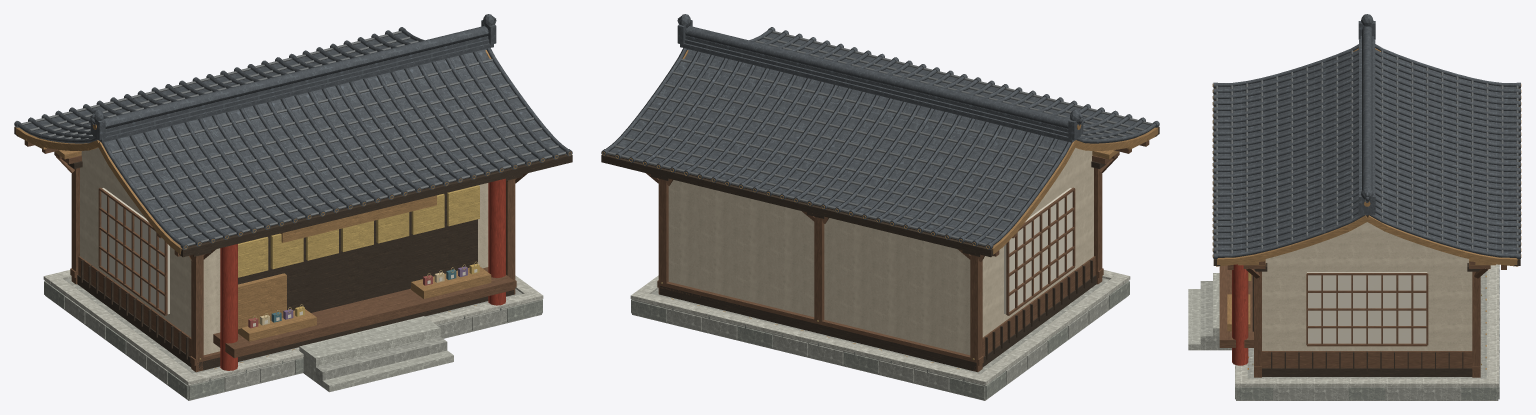
The model's file is shrine_office-exterior-refined-v1.glb.
The picture shows the model from 3 angles, left to right: view 1: azimuth 30°, elevation 25°; view 2: azimuth 150°, elevation 25°; view 3: azimuth 270°, elevation 25°; orthographic projection. The views are drawn at different scales.
Visible parts, largest first — view 1: shrine_office_01_原有建筑轮廓与构件_EX_50565a_dark_rock_surface, shrine_office_02_屋顶瓦作_EX_50565a_dark_rock_surface, shrine_office_01_原有建筑轮廓与构件_EX_41362b_fine_grained_wood_surfa, shrine_office_01_原有建筑轮廓与构件_EX_71533d_fine_grained_wood_surfa, shrine_office_01_原有建筑轮廓与构件_EX_6d7070_plain_surface, shrine_office_01_原有建筑轮廓与构件_EX_a17c51_fine_grained_wood_surfa, shrine_office_01_原有建筑轮廓与构件_EX_d5c8ae_grey_plaster_surface, shrine_office_01_原有建筑轮廓与构件_EX_a4a49a_dark_rock_surface, shrine_office_01_原有建筑轮廓与构件_EX_c5a865_fine_grained_wood_surfa, shrine_office_01_原有建筑轮廓与构件_EX_b5b5a9_dark_rock_surface, shrine_office_01_原有建筑轮廓与构件_EX_bebdaf_dark_rock_surface, shrine_office_01_原有建筑轮廓与构件_EX_a84835_fine_grained_wood_surfa (+2 smaller); view 2: shrine_office_01_原有建筑轮廓与构件_EX_d5c8ae_grey_plaster_surface, shrine_office_01_原有建筑轮廓与构件_EX_50565a_dark_rock_surface, shrine_office_02_屋顶瓦作_EX_50565a_dark_rock_surface, shrine_office_01_原有建筑轮廓与构件_EX_71533d_fine_grained_wood_surfa, shrine_office_01_原有建筑轮廓与构件_EX_6d7070_plain_surface, shrine_office_01_原有建筑轮廓与构件_EX_41362b_fine_grained_wood_surfa, shrine_office_01_原有建筑轮廓与构件_EX_a4a49a_dark_rock_surface, shrine_office_01_原有建筑轮廓与构件_EX_bebdaf_dark_rock_surface, shrine_office_03_窗面与灯具_EX_e6deca_Paper001_window, shrine_office_01_原有建筑轮廓与构件_EX_92968b_dark_rock_surface, shrine_office_01_原有建筑轮廓与构件_EX_a17c51_fine_grained_wood_surfa; view 3: shrine_office_01_原有建筑轮廓与构件_EX_50565a_dark_rock_surface, shrine_office_02_屋顶瓦作_EX_50565a_dark_rock_surface, shrine_office_01_原有建筑轮廓与构件_EX_d5c8ae_grey_plaster_surface, shrine_office_01_原有建筑轮廓与构件_EX_71533d_fine_grained_wood_surfa, shrine_office_03_窗面与灯具_EX_e6deca_Paper001_window, shrine_office_01_原有建筑轮廓与构件_EX_6d7070_plain_surface, shrine_office_01_原有建筑轮廓与构件_EX_a4a49a_dark_rock_surface, shrine_office_01_原有建筑轮廓与构件_EX_bebdaf_dark_rock_surface, shrine_office_01_原有建筑轮廓与构件_EX_a17c51_fine_grained_wood_surfa, shrine_office_01_原有建筑轮廓与构件_EX_41362b_fine_grained_wood_surfa, shrine_office_01_原有建筑轮廓与构件_EX_a84835_fine_grained_wood_surfa, shrine_office_01_原有建筑轮廓与构件_EX_92968b_dark_rock_surface (+2 smaller).
Boxes of the visible parts, box(x1,y1,x2,y2) form: shrine_office_01_原有建筑轮廓与构件_EX_50565a_dark_rock_surface: box(14, 20, 572, 249); shrine_office_02_屋顶瓦作_EX_50565a_dark_rock_surface: box(24, 33, 564, 243); shrine_office_01_原有建筑轮廓与构件_EX_41362b_fine_grained_wood_surfa: box(14, 126, 572, 370); shrine_office_01_原有建筑轮廓与构件_EX_71533d_fine_grained_wood_surfa: box(24, 140, 527, 372); shrine_office_01_原有建筑轮廓与构件_EX_6d7070_plain_surface: box(21, 31, 566, 246); shrine_office_01_原有建筑轮廓与构件_EX_a17c51_fine_grained_wood_surfa: box(15, 50, 566, 341); shrine_office_01_原有建筑轮廓与构件_EX_d5c8ae_grey_plaster_surface: box(80, 148, 488, 354); shrine_office_01_原有建筑轮廓与构件_EX_a4a49a_dark_rock_surface: box(45, 278, 541, 400); shrine_office_01_原有建筑轮廓与构件_EX_c5a865_fine_grained_wood_surfa: box(238, 185, 479, 277); shrine_office_01_原有建筑轮廓与构件_EX_b5b5a9_dark_rock_surface: box(299, 316, 453, 392); shrine_office_01_原有建筑轮廓与构件_EX_bebdaf_dark_rock_surface: box(43, 270, 543, 385); shrine_office_01_原有建筑轮廓与构件_EX_a84835_fine_grained_wood_surfa: box(220, 178, 505, 370); shrine_office_01_原有建筑轮廓与构件_EX_d5c8ae_grey_plaster_surface: box(668, 148, 1093, 354); shrine_office_01_原有建筑轮廓与构件_EX_50565a_dark_rock_surface: box(601, 20, 1159, 249); shrine_office_02_屋顶瓦作_EX_50565a_dark_rock_surface: box(609, 33, 1149, 243); shrine_office_01_原有建筑轮廓与构件_EX_71533d_fine_grained_wood_surfa: box(646, 140, 1149, 372); shrine_office_01_原有建筑轮廓与构件_EX_6d7070_plain_surface: box(607, 31, 1152, 246); shrine_office_01_原有建筑轮廓与构件_EX_41362b_fine_grained_wood_surfa: box(601, 126, 1159, 371); shrine_office_01_原有建筑轮廓与构件_EX_a4a49a_dark_rock_surface: box(632, 278, 1128, 400); shrine_office_01_原有建筑轮廓与构件_EX_bebdaf_dark_rock_surface: box(630, 270, 1130, 385); shrine_office_03_窗面与灯具_EX_e6deca_Paper001_window: box(1004, 188, 1072, 314); shrine_office_01_原有建筑轮廓与构件_EX_92968b_dark_rock_surface: box(631, 280, 1129, 399); shrine_office_01_原有建筑轮廓与构件_EX_a17c51_fine_grained_wood_surfa: box(607, 50, 1158, 254); shrine_office_01_原有建筑轮廓与构件_EX_50565a_dark_rock_surface: box(1213, 21, 1520, 258); shrine_office_02_屋顶瓦作_EX_50565a_dark_rock_surface: box(1218, 49, 1516, 253); shrine_office_01_原有建筑轮廓与构件_EX_d5c8ae_grey_plaster_surface: box(1262, 222, 1472, 350); shrine_office_01_原有建筑轮廓与构件_EX_71533d_fine_grained_wood_surfa: box(1219, 259, 1506, 377); shrine_office_03_窗面与灯具_EX_e6deca_Paper001_window: box(1307, 272, 1427, 343); shrine_office_01_原有建筑轮廓与构件_EX_6d7070_plain_surface: box(1215, 50, 1518, 253); shrine_office_01_原有建筑轮廓与构件_EX_a4a49a_dark_rock_surface: box(1200, 264, 1499, 400); shrine_office_01_原有建筑轮廓与构件_EX_bebdaf_dark_rock_surface: box(1235, 264, 1498, 386); shrine_office_01_原有建筑轮廓与构件_EX_a17c51_fine_grained_wood_surfa: box(1216, 48, 1518, 331); shrine_office_01_原有建筑轮廓与构件_EX_41362b_fine_grained_wood_surfa: box(1213, 88, 1520, 376); shrine_office_01_原有建筑轮廓与构件_EX_a84835_fine_grained_wood_surfa: box(1232, 264, 1248, 365); shrine_office_01_原有建筑轮廓与构件_EX_92968b_dark_rock_surface: box(1235, 278, 1499, 399).
Size of the model in its own units: 15.6 by 8.95 by 12.2.
23 materials, 16 textured.
